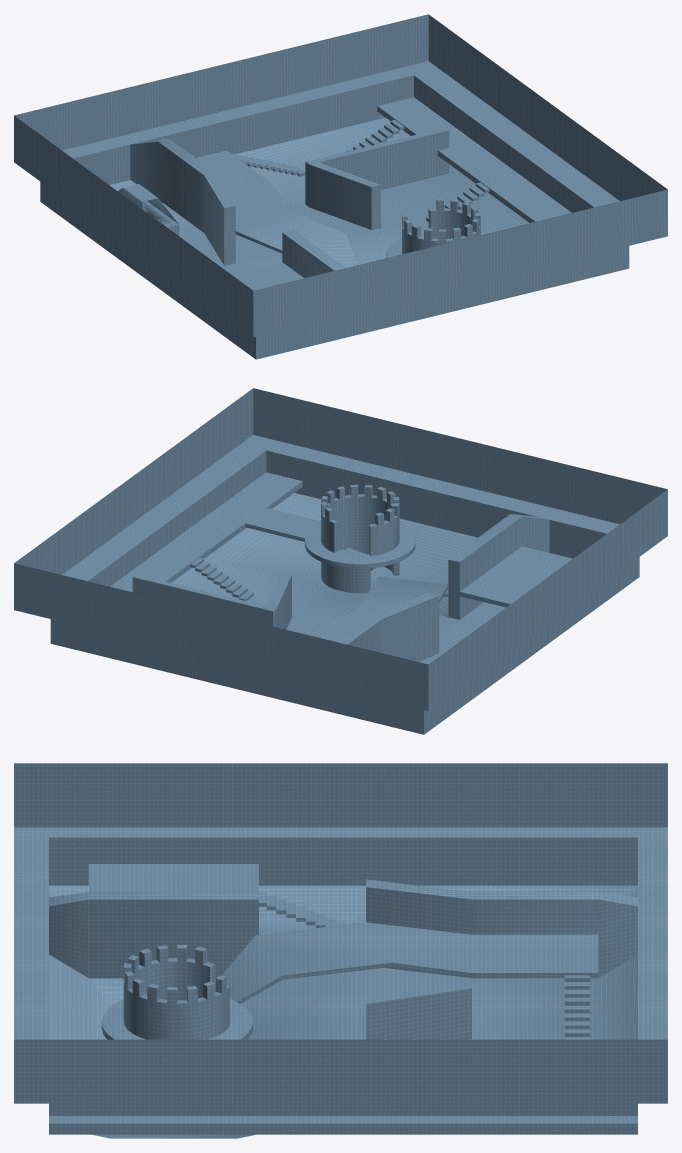
Rendered from collision-world2.glb.
3 renders of one model, top to bottom at view 1: azimuth 30°, elevation 25°; view 2: azimuth 150°, elevation 25°; view 3: azimuth 270°, elevation 25°, orthographic. The views are drawn at different scales.
Parts seen in each view (by area): view 1: Cube.004; view 2: Cube.004; view 3: Cube.004.
Part boxes in pixels (<box>): Cube.004: <box>14,14,667,359</box>; Cube.004: <box>14,388,667,734</box>; Cube.004: <box>14,763,667,1138</box>.
Bounding box in the file's own units: 34.36 × 8.6 × 34.36.
1 material, 1 textured.
